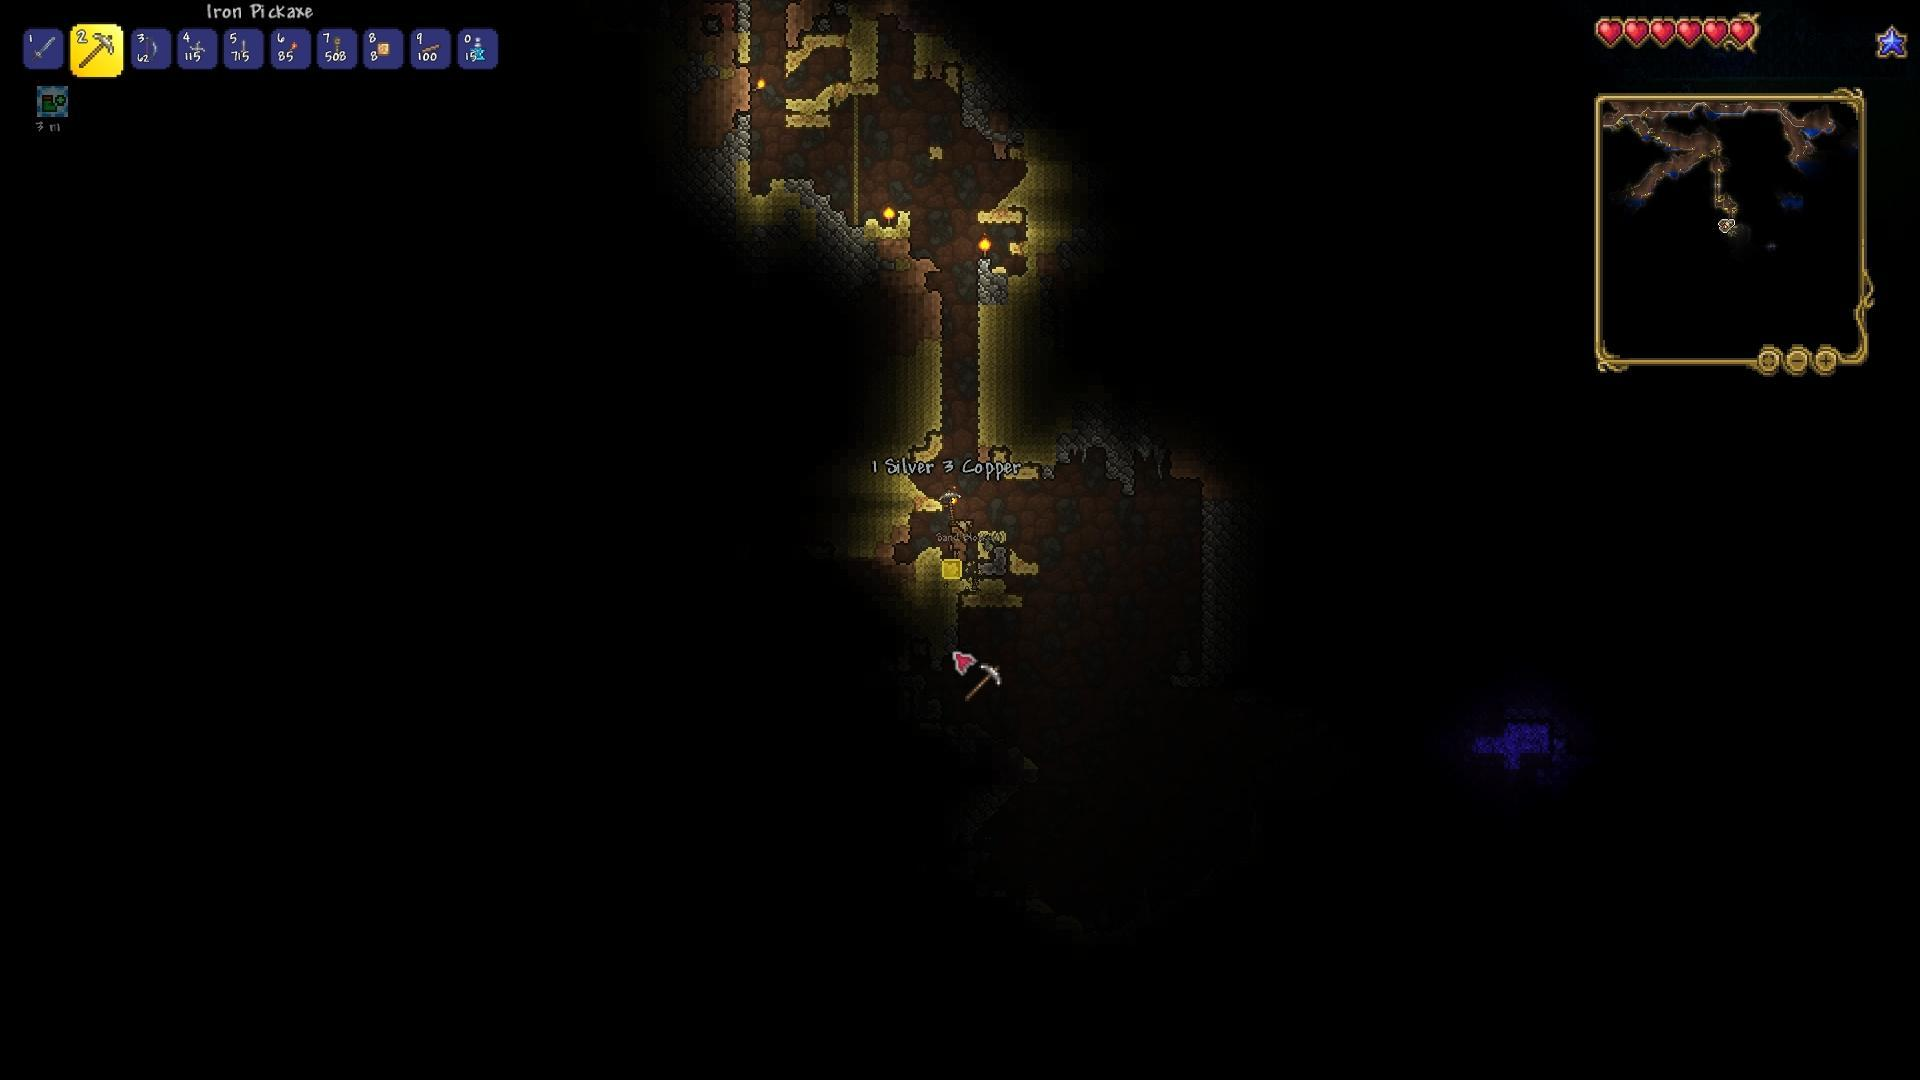sand: (978, 165, 1054, 227), (918, 342, 949, 450), (973, 302, 993, 456), (782, 88, 840, 135), (733, 160, 782, 207), (868, 479, 943, 508), (864, 20, 889, 90), (915, 545, 945, 595), (1010, 541, 1044, 579), (731, 26, 760, 71), (907, 28, 923, 84)
